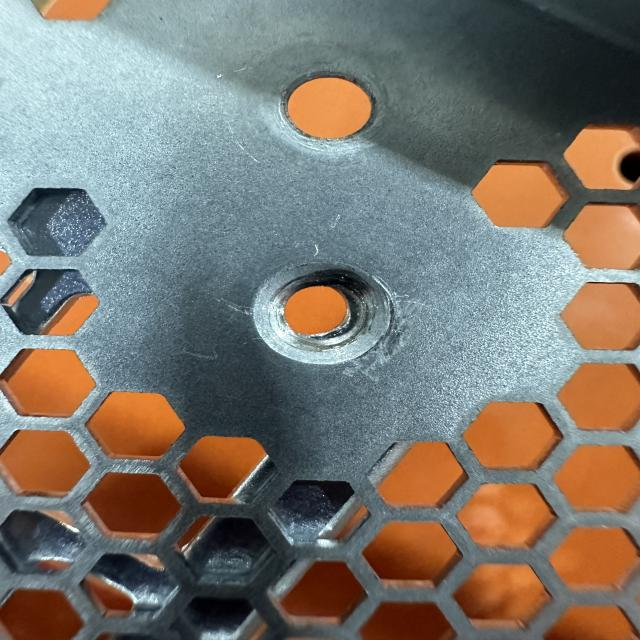Missing screw: (226, 254, 422, 378)
